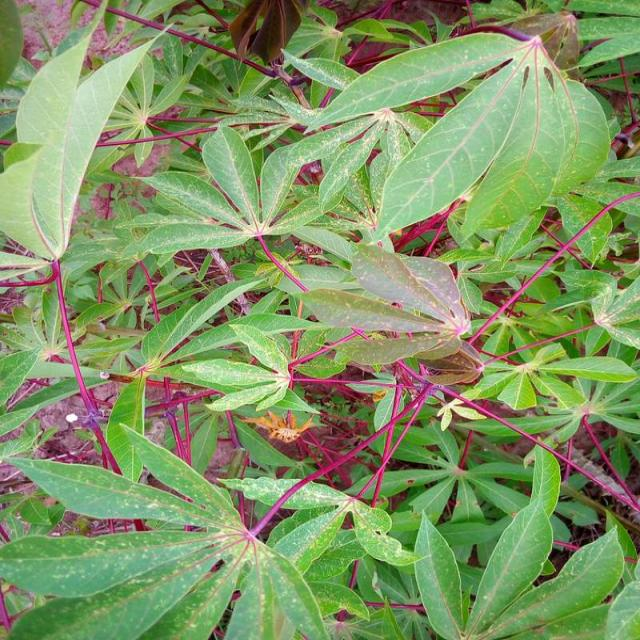cassava leaf: (1, 7, 637, 637), (372, 30, 610, 255)
